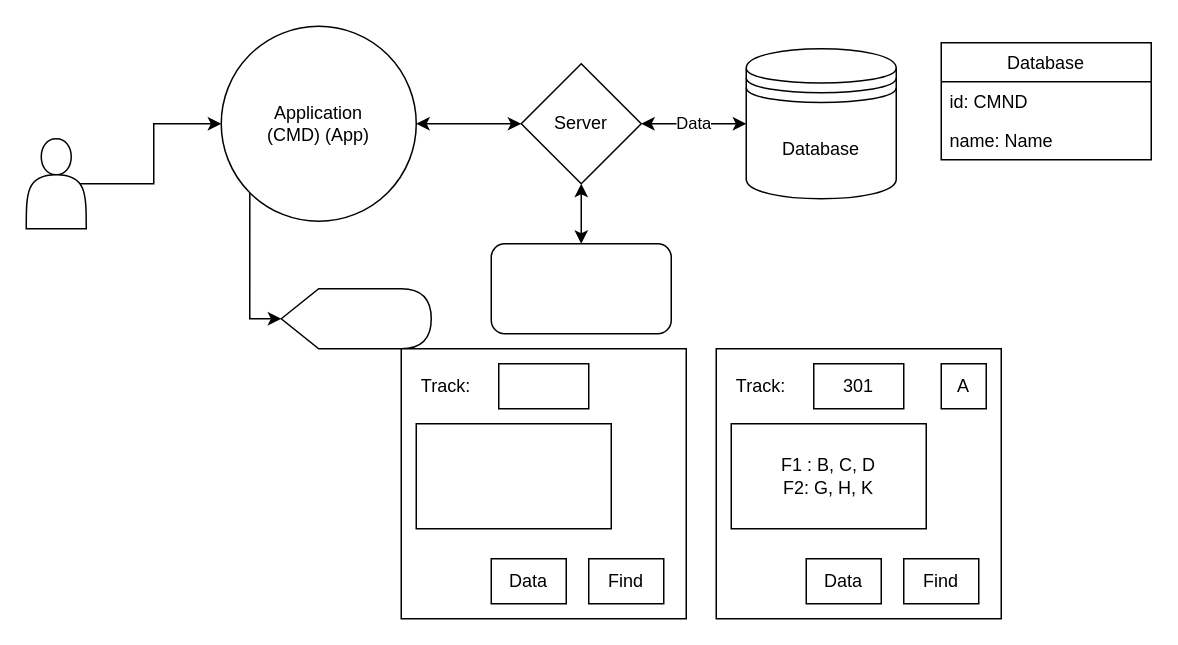
This 1178x645 diagram has some shape labels left out. Each missing label, with the box of its shape:
Core Computing: (490, 242, 671, 334)
Display (CMD) (3D): (280, 287, 431, 349)
